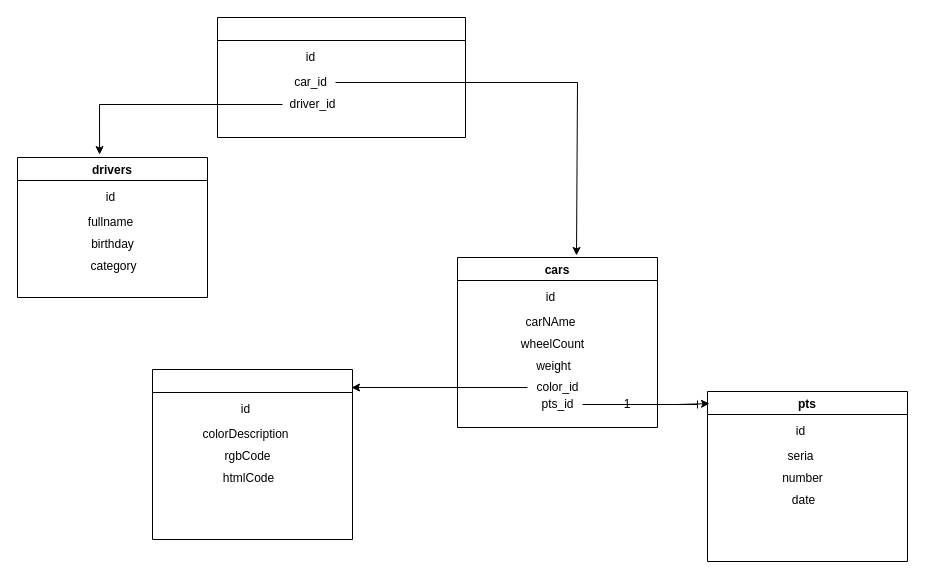
The diagram is 925 pixels wide and 579 high, and some of its shapes have lost their labels. The box of each missing label's shape, as (x1, y1, x2, y2) in pixels:
car_drivers: (216, 16, 466, 138)
colors: (152, 368, 352, 540)
